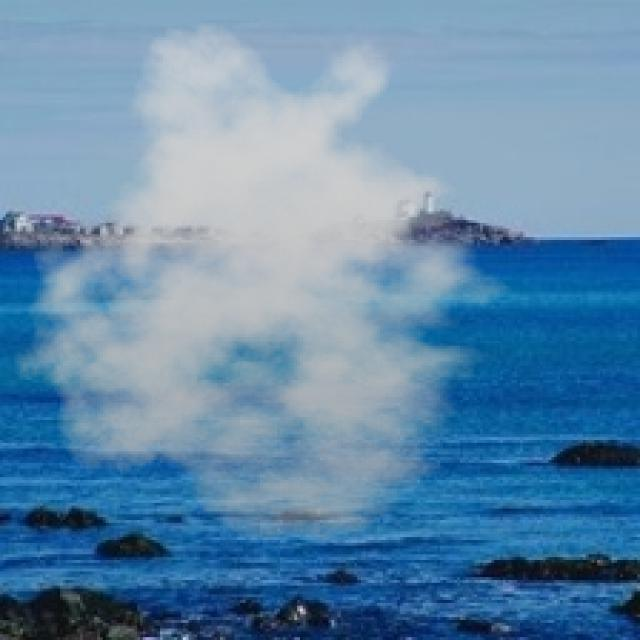Smoke: (0, 20, 535, 544)
